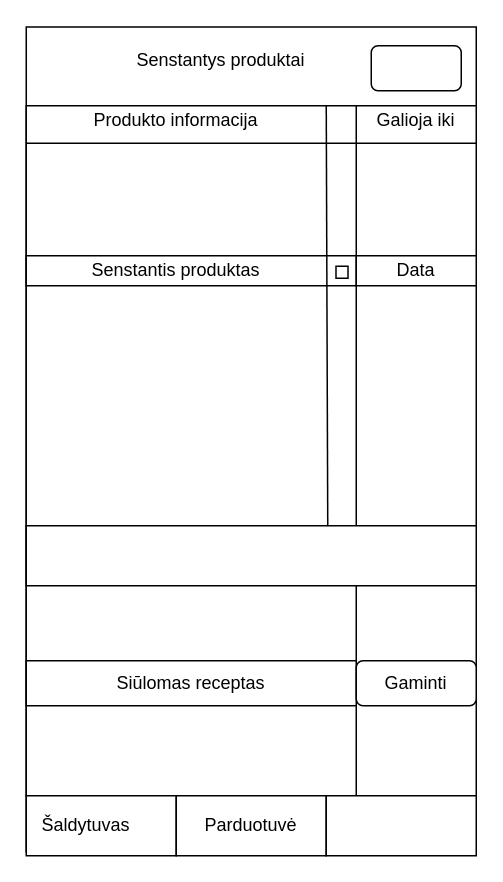
Some shapes in this 503 by 882 pixel diagram are drawn without their labels. The box of each missing label's shape, as (x1, y1, x2, y2) in pixels:
Krepšelis: (325, 794, 476, 856)
Pašalinti pasirinktus: (370, 44, 461, 91)
Receptai: (25, 524, 476, 586)
